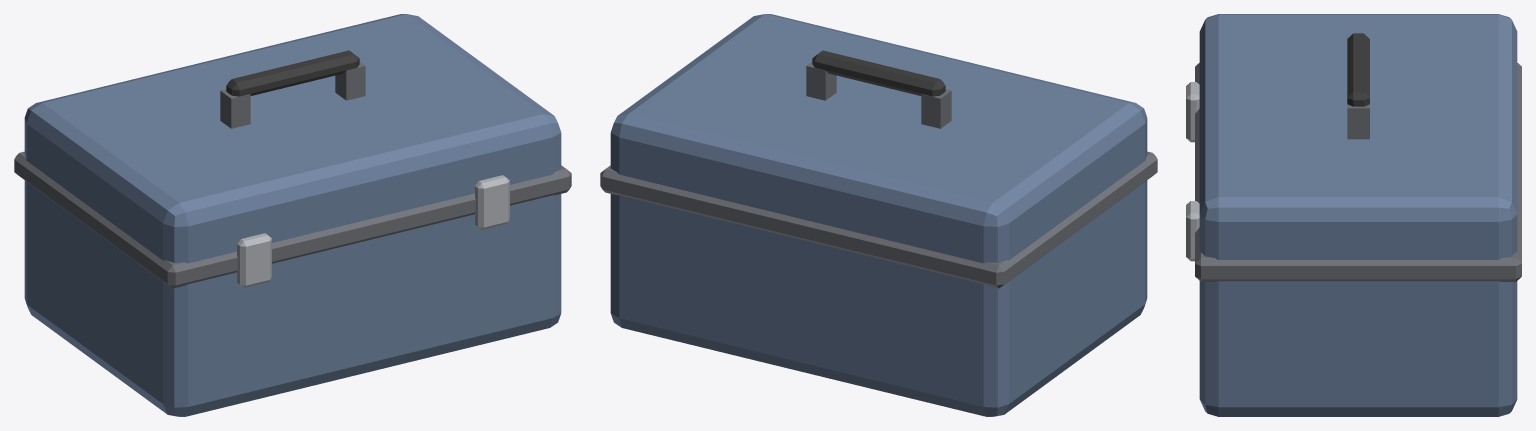
File: Garage_Case_Navy.glb
The picture shows the model from 3 angles, left to right: view 1: azimuth 30°, elevation 25°; view 2: azimuth 150°, elevation 25°; view 3: azimuth 270°, elevation 25°; orthographic projection. The views are drawn at different scales.
Visible parts, largest first — view 1: Garage_Case_Navy; view 2: Garage_Case_Navy; view 3: Garage_Case_Navy.
Part boxes in pixels (x1,y1,x2,y2): Garage_Case_Navy: (14, 14, 571, 416); Garage_Case_Navy: (600, 14, 1157, 416); Garage_Case_Navy: (1186, 14, 1521, 416).
Bounding box in the file's own units: 0.632 × 0.3825 × 0.444.
